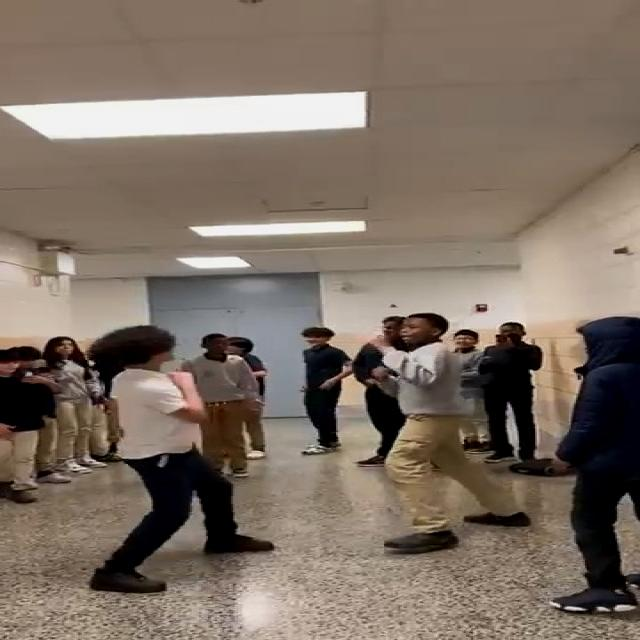fight: (73, 310, 528, 592)
